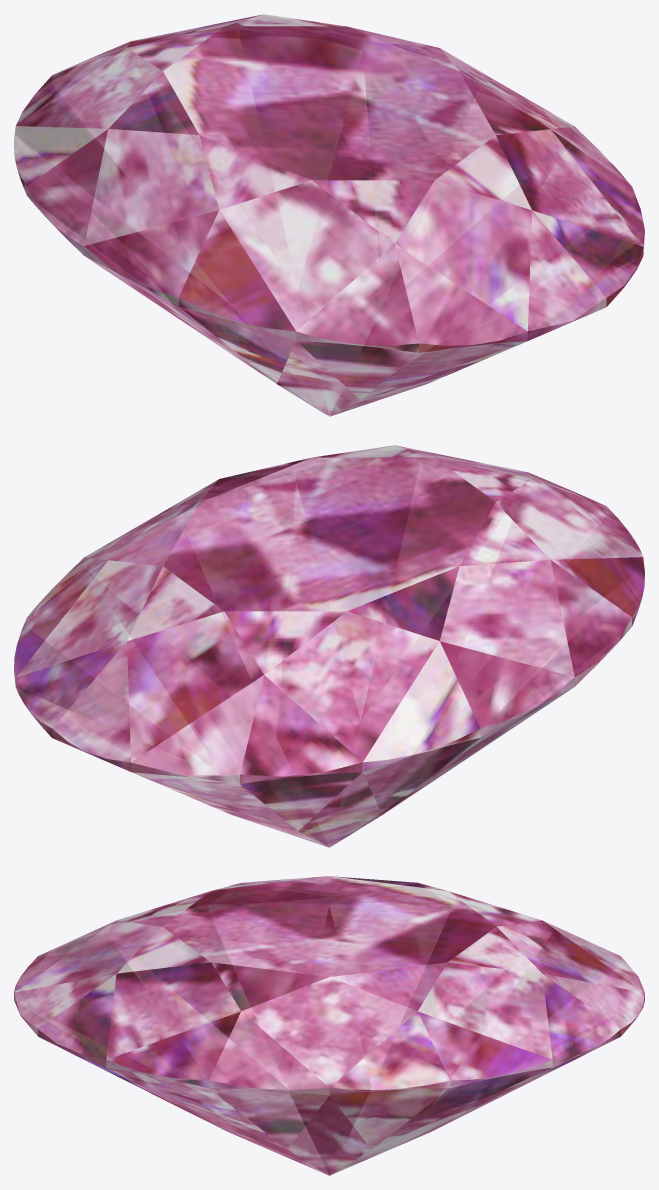
The model's file is ruby.dae.
3 views of the same model, one above another, from view 1: azimuth 30°, elevation 25°; view 2: azimuth 150°, elevation 25°; view 3: azimuth 270°, elevation 25° (orthographic). The views are drawn at different scales.
Visible parts, largest first — view 1: S_ruby1; view 2: S_ruby1; view 3: S_ruby1.
Part boxes in pixels (x1,y1,x2,y2): S_ruby1: (14,14,644,416); S_ruby1: (14,445,644,847); S_ruby1: (14,876,644,1175).
Size of the model in its own units: 0.025 by 0.0153 by 0.035.
Materials: 1 (1 with a texture image).
